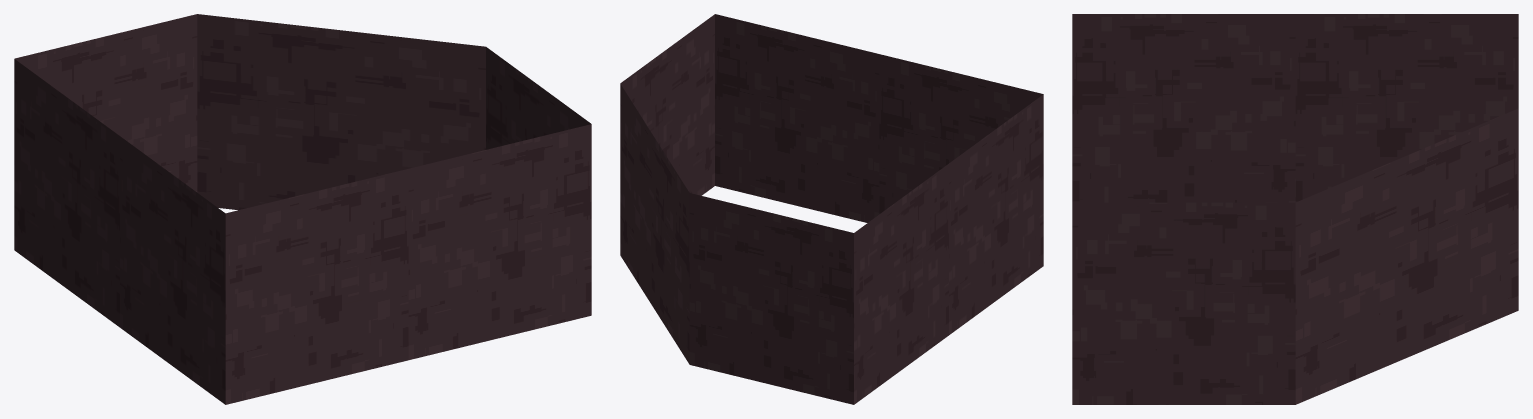
File: BeveledCornerWallFloor.fbx
3 renders of one model, left to right at view 1: azimuth 30°, elevation 25°; view 2: azimuth 150°, elevation 25°; view 3: azimuth 270°, elevation 25°, orthographic. The views are drawn at different scales.
Parts seen in each view (by area): view 1: BeveledCornerWallFloor; view 2: BeveledCornerWallFloor; view 3: BeveledCornerWallFloor.
Part boxes in pixels (x1,y1,x2,y2): BeveledCornerWallFloor: [14, 14, 591, 404]; BeveledCornerWallFloor: [620, 14, 1043, 404]; BeveledCornerWallFloor: [1072, 14, 1518, 404].
Bounding box in the file's own units: 200 × 100 × 200.
